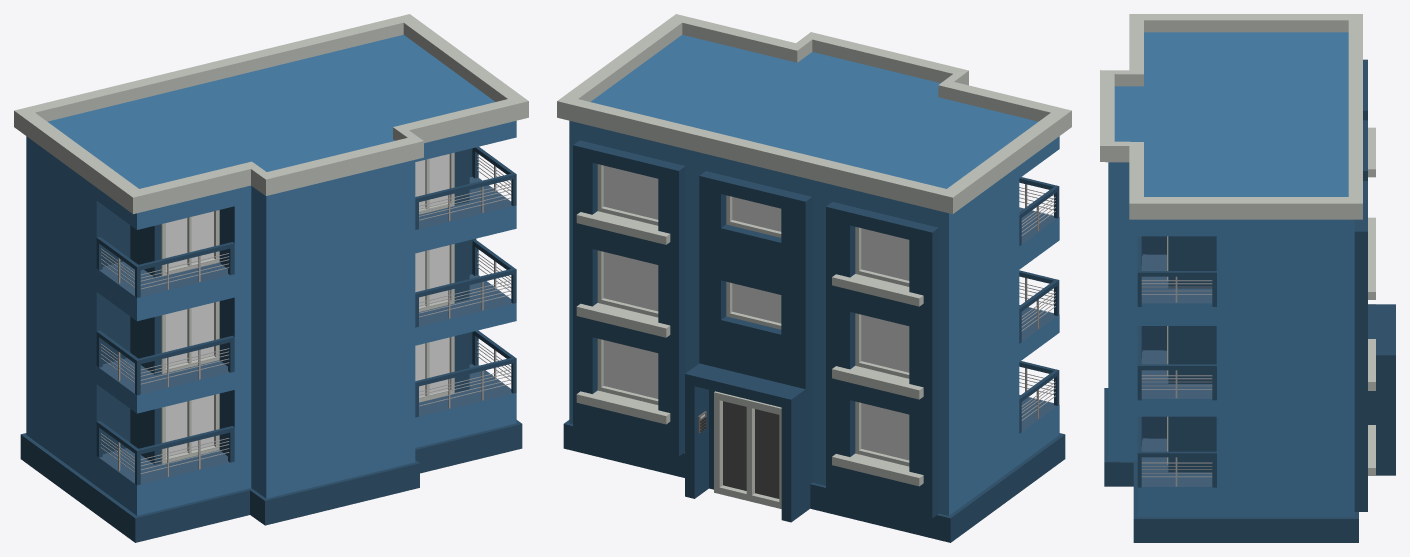
Rendered from Building C Blue.fbx.
3 renders of one model, left to right at view 1: azimuth 30°, elevation 25°; view 2: azimuth 150°, elevation 25°; view 3: azimuth 270°, elevation 25°, orthographic.
Parts seen in each view (by area): view 1: Building C Blue.001; view 2: Building C Blue.001; view 3: Building C Blue.001.
Part boxes in pixels (x1,y1,x2,y2): Building C Blue.001: (14, 14, 528, 542); Building C Blue.001: (557, 14, 1071, 542); Building C Blue.001: (1100, 14, 1395, 542).
Bounding box in the file's own units: 1257 × 829 × 1057.
